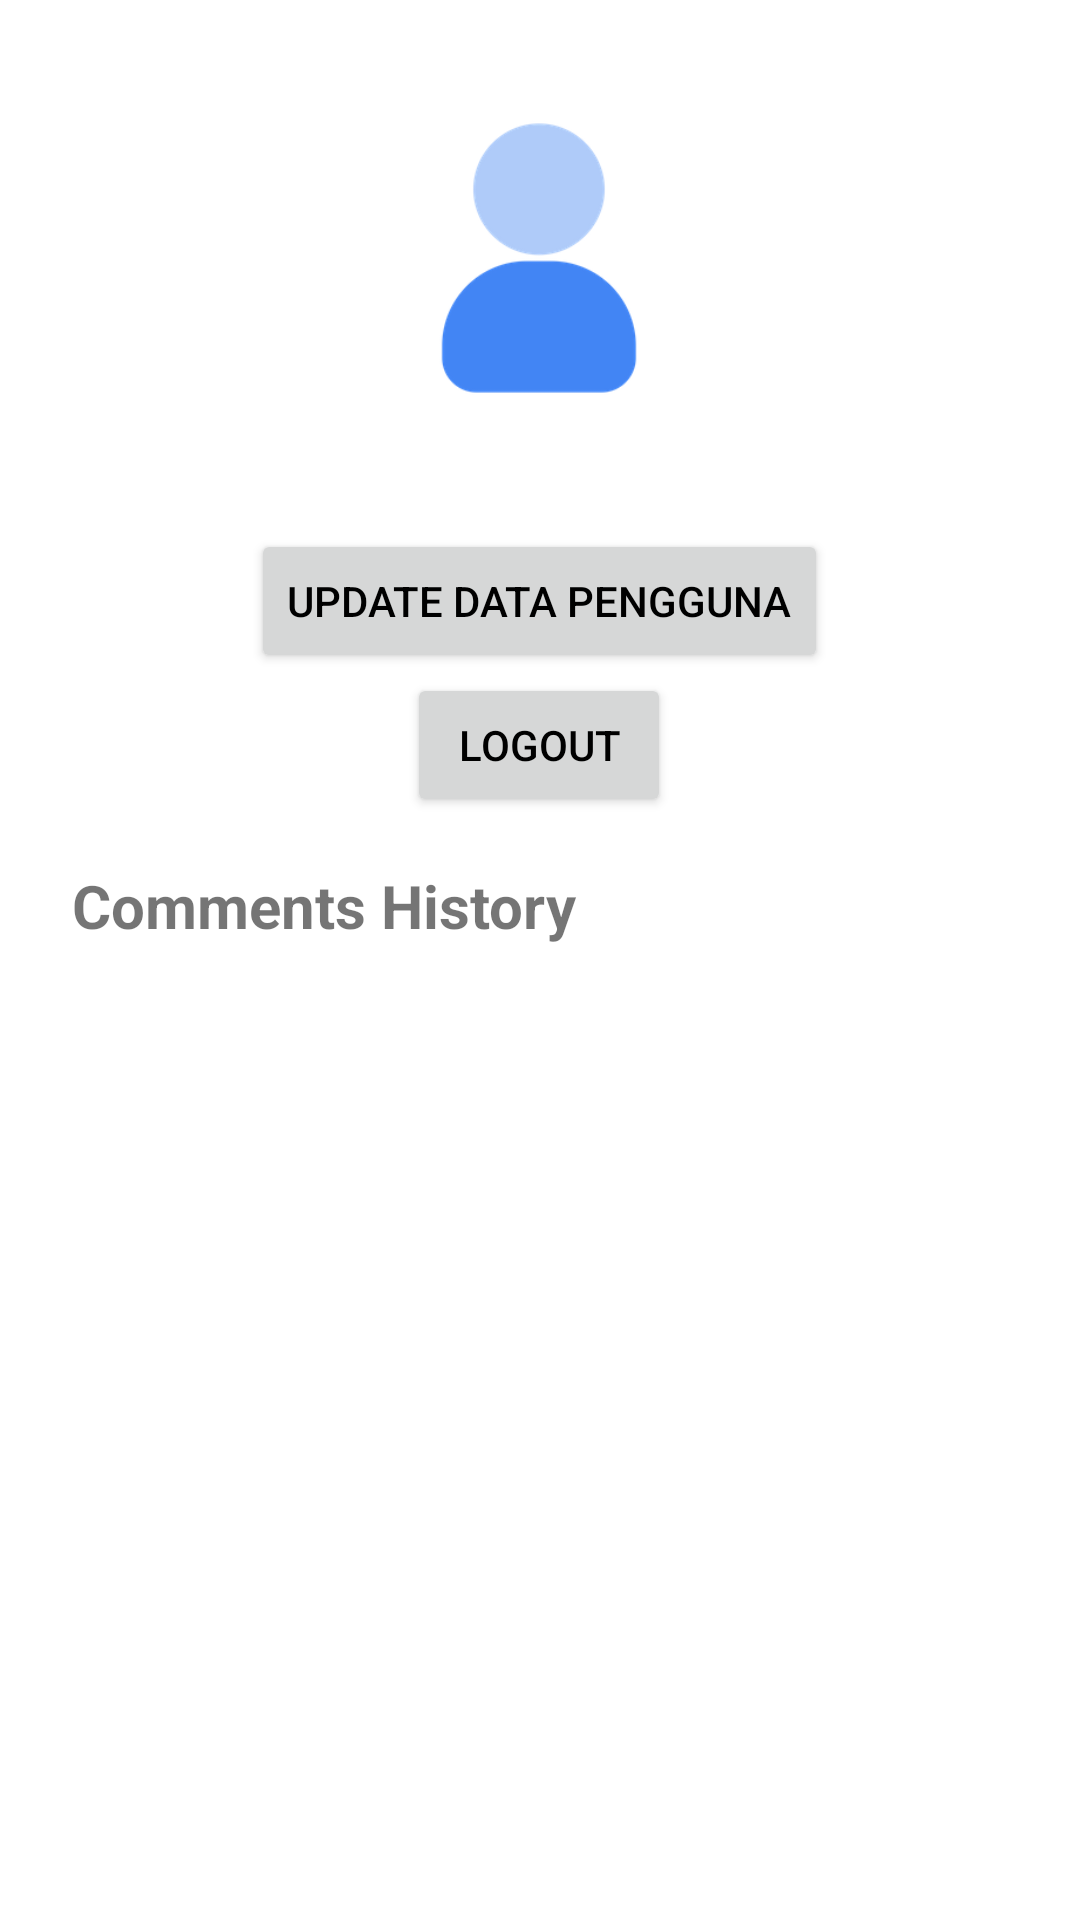

Icon click points for this 1080w x 1920h phone screenshot, format [x,y]:
user: [539,258]
